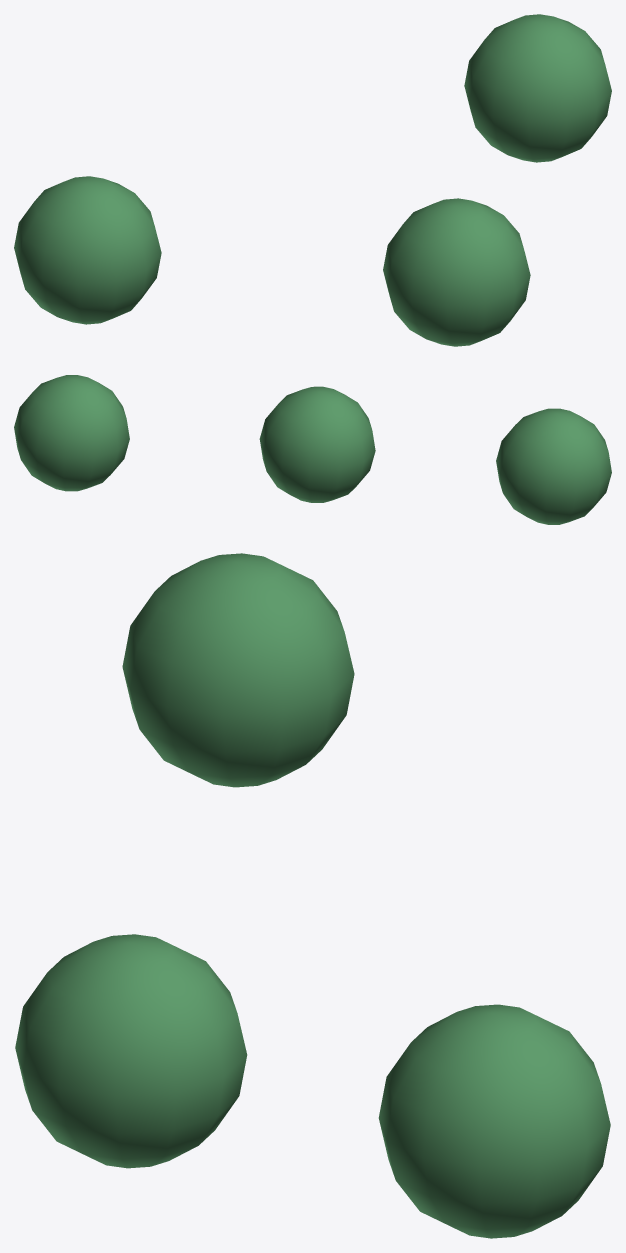
3 renders of one model, top to bottom at view 1: azimuth 30°, elevation 25°; view 2: azimuth 150°, elevation 25°; view 3: azimuth 270°, elevation 25°, orthographic. The views are drawn at different scales.
Visible parts, largest first — view 1: 左侧腹股沟浅淋巴结上内侧群; view 2: 左侧腹股沟浅淋巴结上内侧群; view 3: 左侧腹股沟浅淋巴结上内侧群.
Boxes of the visible parts, bbox=[...] form: 左侧腹股沟浅淋巴结上内侧群: bbox=[14, 14, 611, 346]; 左侧腹股沟浅淋巴结上内侧群: bbox=[14, 375, 611, 524]; 左侧腹股沟浅淋巴结上内侧群: bbox=[15, 553, 610, 1238].
Bounding box in the file's own units: 0.0196 × 0.00606 × 0.00974.
